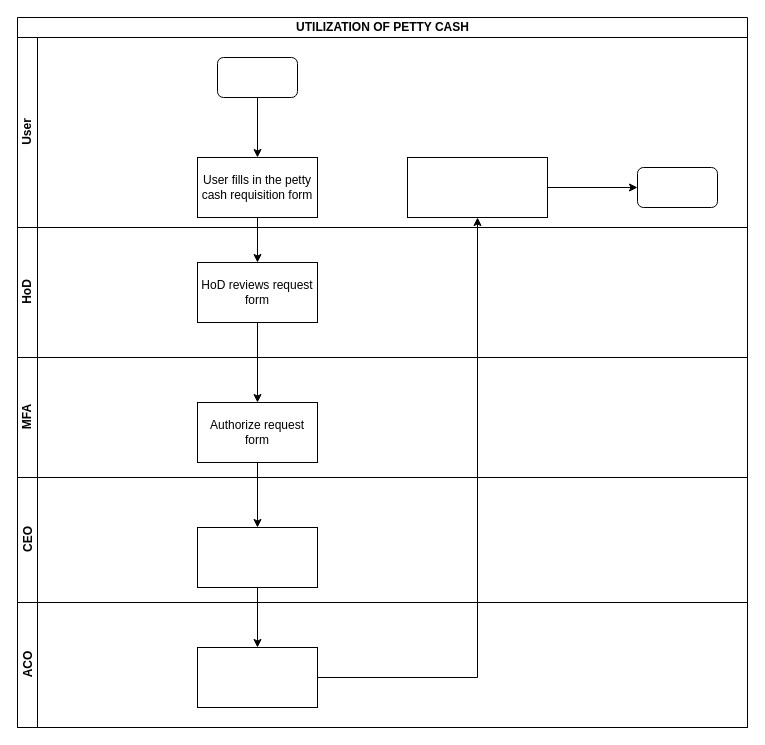
The diagram is 765 pixels wide and 745 high, and some of its shapes have lost their labels. The shapes that lost their labels are listed below. From the top down, each one's centre as x and y in pixels, then its label:
At (x=257, y=77): "Start".
At (x=477, y=187): "Surrender the receipts/S13 for the equivalent amount for records".
At (x=677, y=187): "End".
At (x=257, y=557): "Approve Request form".
At (x=257, y=677): "Issue cash to user".
